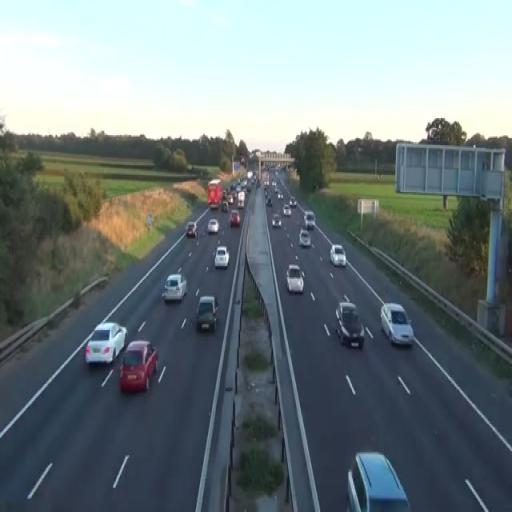Bus: (206, 180, 222, 210)
Car: (346, 452, 411, 511), (84, 320, 128, 367), (120, 340, 158, 394), (335, 296, 365, 350), (380, 303, 414, 347), (196, 295, 219, 332), (162, 273, 187, 303), (286, 264, 304, 295), (330, 244, 346, 268), (214, 246, 230, 269), (299, 228, 311, 248), (304, 211, 316, 231), (208, 218, 220, 236), (186, 221, 198, 238), (230, 210, 240, 228)
